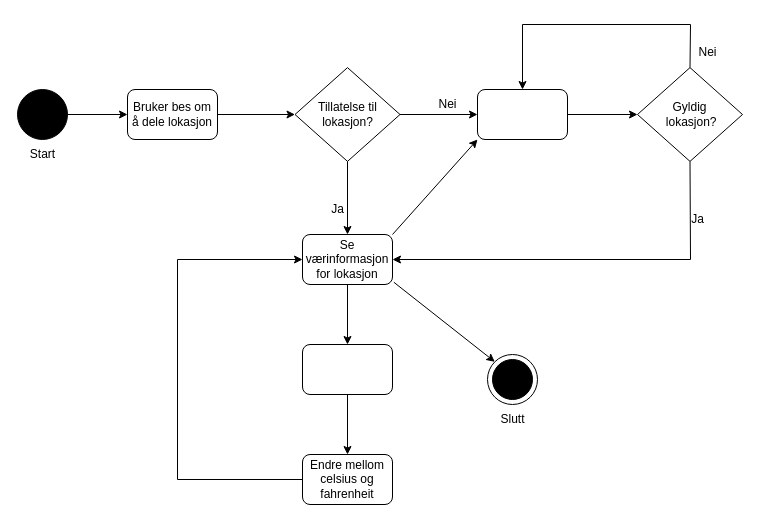
The diagram is 760 pixels wide and 522 high, and some of its shapes have lost their labels. Here are the shapes that lost their labels. From the top down, the centre of each, then its label:
At point (522, 114): "Søke opp lokasjon".
At point (347, 369): "Åpne innstillinger".
